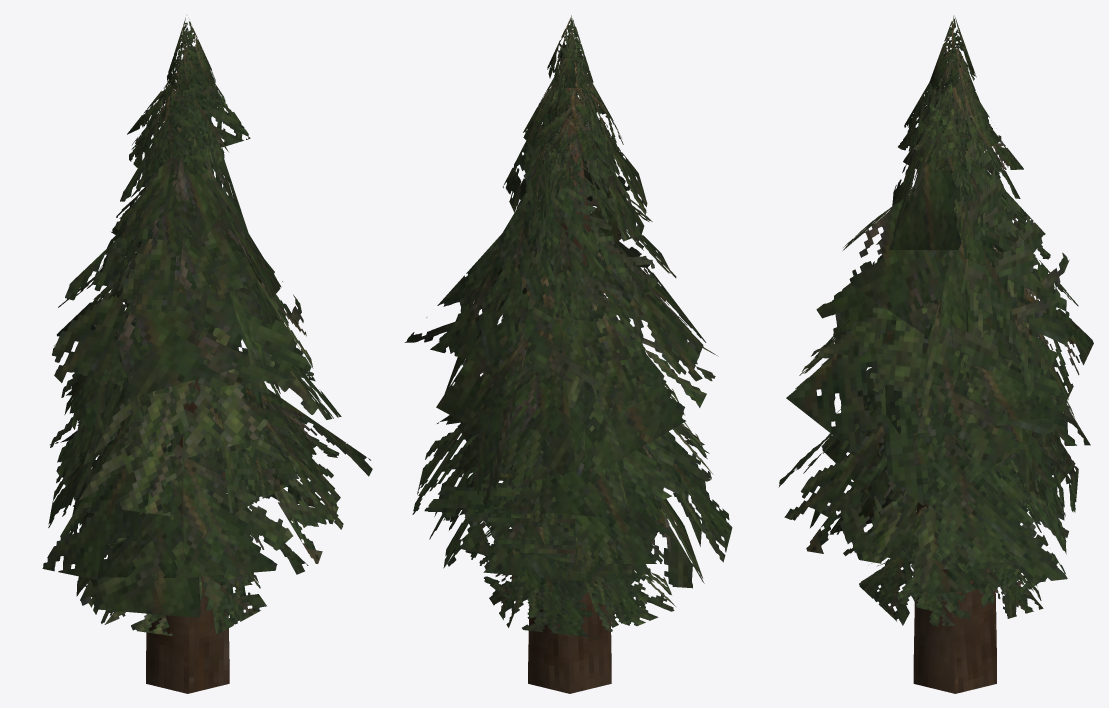
File: tree_4.fbx
The picture shows the model from 3 angles, left to right: view 1: azimuth 30°, elevation 25°; view 2: azimuth 150°, elevation 25°; view 3: azimuth 270°, elevation 25°; orthographic projection.
Parts seen in each view (by area): view 1: tree_4; view 2: tree_4; view 3: tree_4.
Boxes of the visible parts, x1,y1,x2,y2 form: tree_4: (42,17,372,693); tree_4: (404,15,732,693); tree_4: (778,15,1093,693).
Bounding box in the file's own units: 560 × 496 × 1130.
